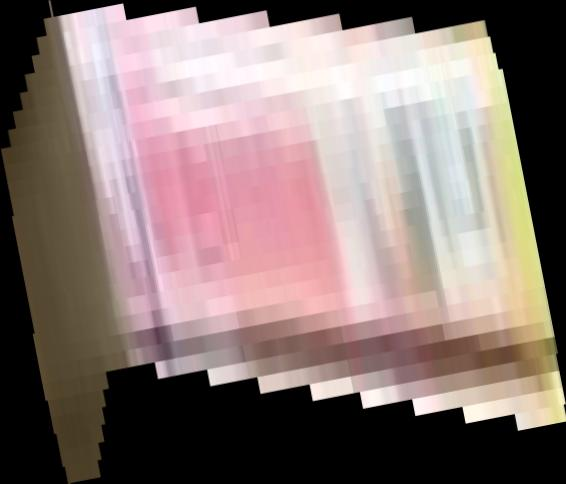flat: (1, 1, 566, 484)
